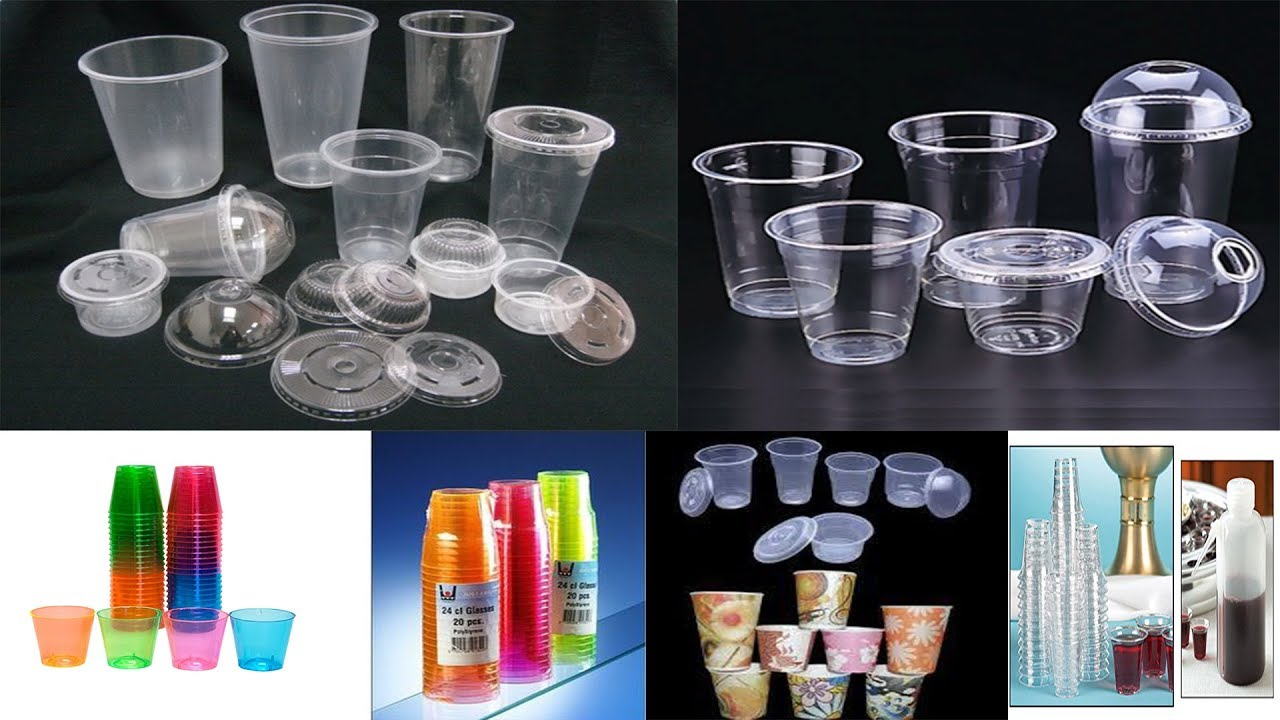plastic_glass: (234, 1, 375, 191), (73, 31, 228, 202), (226, 603, 300, 679), (881, 602, 955, 676), (161, 600, 229, 675), (96, 599, 163, 673), (790, 564, 861, 632), (761, 435, 825, 508), (28, 604, 96, 670), (820, 449, 881, 508)
